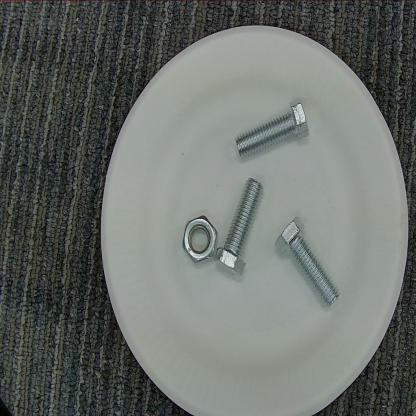FOD: (276, 215, 339, 307), (234, 100, 312, 162), (217, 177, 267, 272), (179, 211, 223, 267)
